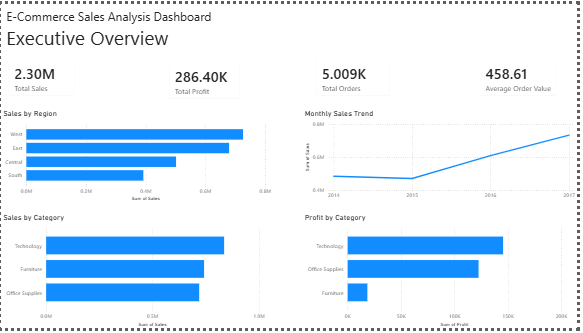

The page's visual inventory and layout, read from the dashboard file:
{"tool":"powerbi","page":{"name":"Page 1","canvas":[1280,720],"ordinal":0},"visuals":[{"type":"cardVisual","fields":{"Data":["Sum(Sample - Superstore.Sales)"]},"box":[0,106,180,114],"z":0},{"type":"cardVisual","fields":{"Data":["Sum(Sample - Superstore.Profit)"]},"box":[357,113,190,114],"z":1000},{"type":"cardVisual","fields":{"Data":["Count(Sample - Superstore.Order ID)"]},"box":[684,106,198,114],"z":2000},{"type":"cardVisual","fields":{"Data":["Sample - Superstore.Average Order Value"]},"box":[1045,106,204,114],"z":3000},{"type":"clusteredBarChart","title":"Sales by Category","fields":{"Category":["Sample - Superstore.Category"],"Y":["Sum(Sample - Superstore.Sales)"]},"box":[0,462,592,258],"z":4000},{"type":"clusteredBarChart","title":"Profit by Category","fields":{"Category":["Sample - Superstore.Category"],"Y":["Sum(Sample - Superstore.Profit)"]},"box":[670,462,594,258],"z":5000},{"type":"clusteredBarChart","title":"Sales by Region","fields":{"Category":["Sample - Superstore.Region"],"Y":["Sum(Sample - Superstore.Sales)"]},"box":[0,234,606,210],"z":6000},{"type":"lineChart","title":"Monthly Sales Trend","fields":{"Category":["Sample - Superstore.Order Date.Variation.Date Hierarchy.Year","Sample - Superstore.Order Date.Variation.Date Hierarchy.Quarter","Sample - Superstore.Order Date.Variation.Date Hierarchy.Month","Sample - Superstore.Order Date.Variation.Date Hierarchy.Day"],"Y":["Sum(Sample - Superstore.Sales)"]},"box":[670,234,610,210],"z":7000},{"type":"textbox","box":[6,4,468,122],"z":8000}]}

Visuals, with their boxes in screenshot pixels (x1, y1, x2, y2), scaled from the page's 1280x720 canvas onto the 583x333 screenshot:
cardVisual - Sum(Sample - Superstore.Sales): crop(0, 49, 82, 102)
cardVisual - Sum(Sample - Superstore.Profit): crop(163, 52, 249, 105)
cardVisual - Count(Sample - Superstore.Order ID): crop(312, 49, 402, 102)
cardVisual - Sample - Superstore.Average Order Value: crop(476, 49, 569, 102)
"Sales by Category" clusteredBarChart: crop(0, 214, 270, 332)
"Profit by Category" clusteredBarChart: crop(305, 214, 576, 332)
"Sales by Region" clusteredBarChart: crop(0, 108, 276, 205)
"Monthly Sales Trend" lineChart: crop(305, 108, 582, 205)
textbox: crop(3, 2, 216, 58)
